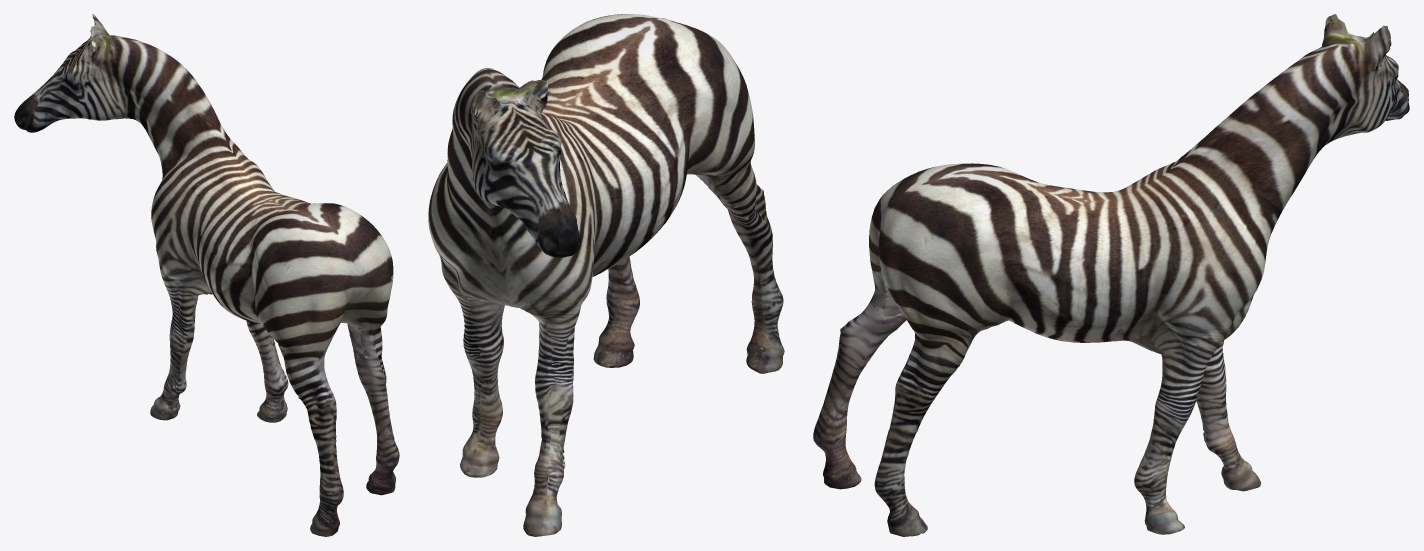
The model's file is AnimalZebra.fbx.
The picture shows the model from 3 angles, left to right: view 1: azimuth 30°, elevation 25°; view 2: azimuth 150°, elevation 25°; view 3: azimuth 270°, elevation 25°; orthographic projection. The views are drawn at different scales.
Visible parts, largest first — view 1: zebra; view 2: zebra; view 3: zebra.
Boxes of the visible parts, x1,y1,x2,y2 form: zebra: (14,14,399,536); zebra: (428,14,784,536); zebra: (813,14,1409,536).
Bounding box in the file's own units: 4582 × 8336 × 10000.
1 material, 1 textured.
